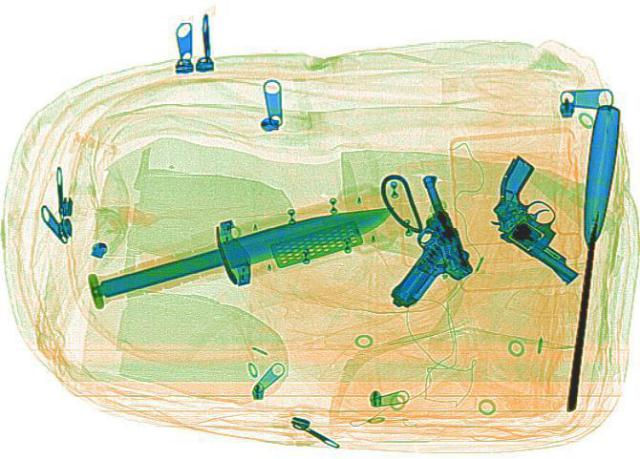Gun: (446, 155, 632, 278), (339, 174, 485, 307)
Knife: (85, 195, 398, 302), (556, 102, 620, 409)
